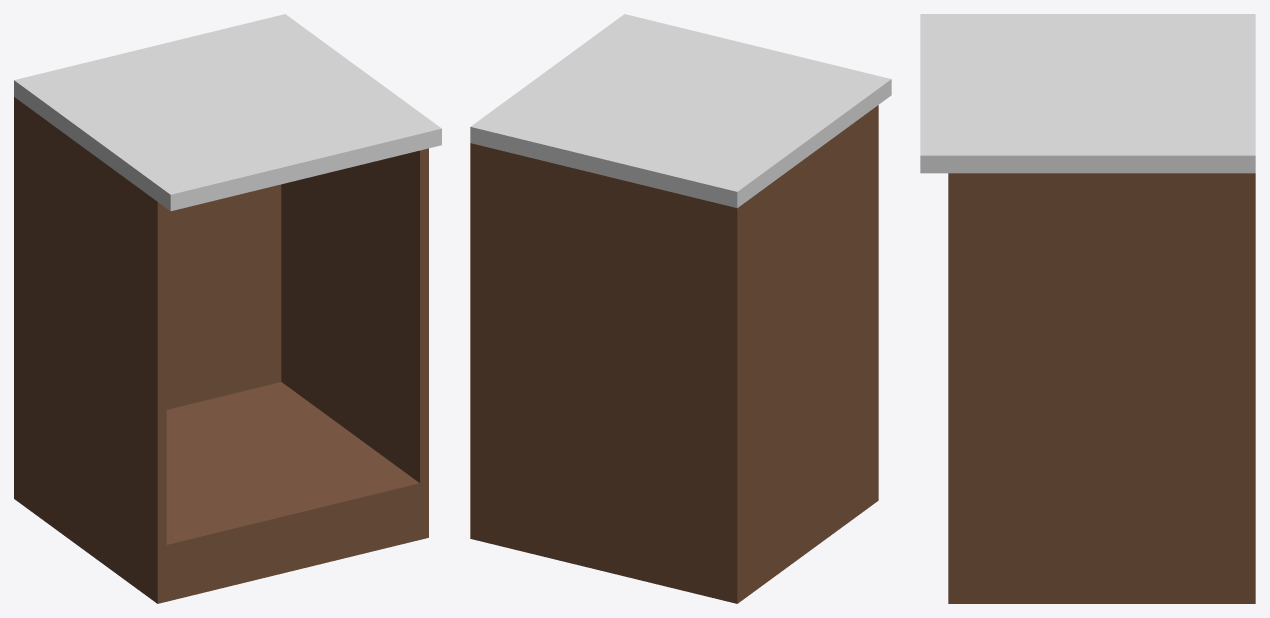
File: Kitchen1_C2_01.fbx
3 renders of one model, left to right at view 1: azimuth 30°, elevation 25°; view 2: azimuth 150°, elevation 25°; view 3: azimuth 270°, elevation 25°, orthographic. The views are drawn at different scales.
Visible parts, largest first — view 1: Kitchen1_C2_01; view 2: Kitchen1_C2_01; view 3: Kitchen1_C2_01.
Boxes of the visible parts, x1,y1,x2,y2 form: Kitchen1_C2_01: [14, 14, 441, 603]; Kitchen1_C2_01: [470, 14, 891, 603]; Kitchen1_C2_01: [920, 14, 1255, 603].
Bounding box in the file's own units: 60 × 88.5 × 60.
